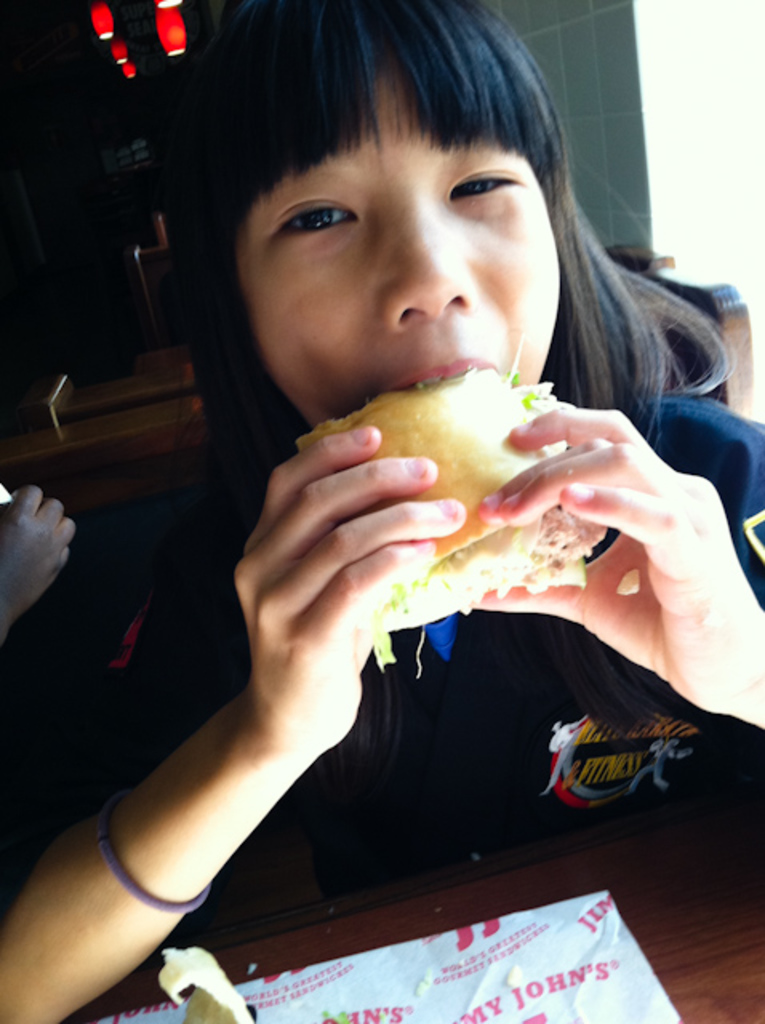hamburger: (298, 355, 602, 672)
